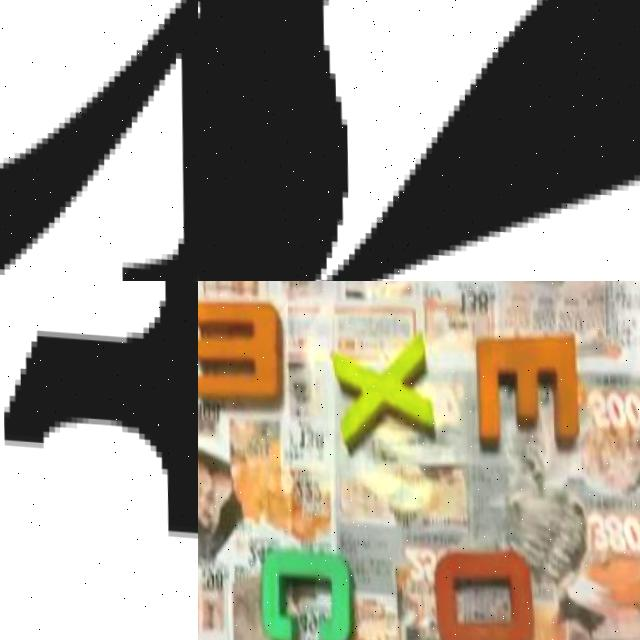2: (0, 0, 198, 281)
7: (198, 0, 640, 281)
C: (257, 546, 353, 640)
E: (472, 319, 579, 452)
O: (426, 542, 529, 640)
T: (0, 281, 198, 564)
W: (198, 295, 281, 402)
X: (328, 334, 429, 451)
